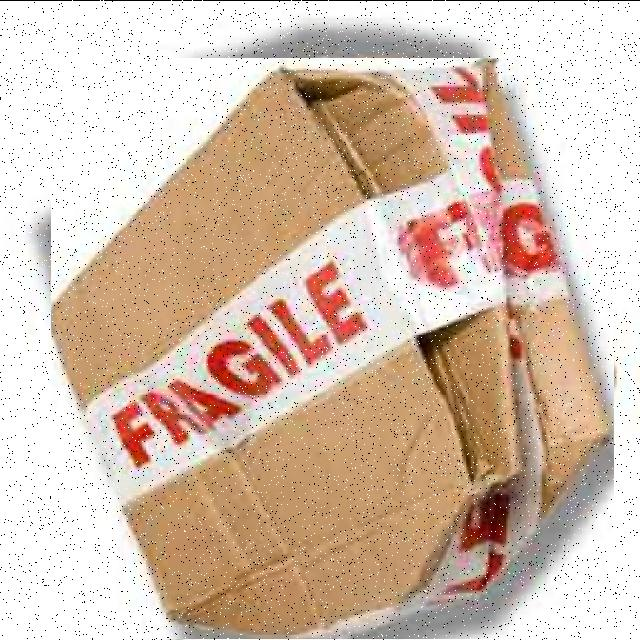defect: (51, 57, 614, 638)
